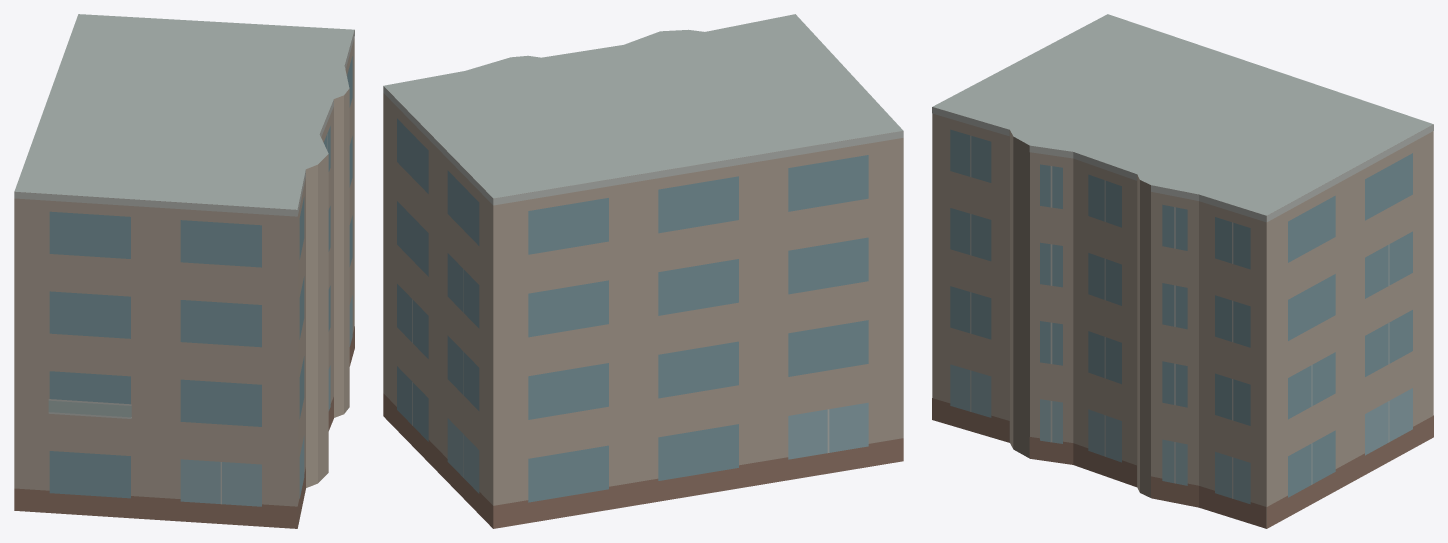
File: survey-upis-32682874.glb
3 views of the same model, side by side, from view 1: azimuth 30°, elevation 25°; view 2: azimuth 150°, elevation 25°; view 3: azimuth 270°, elevation 25° (orthographic). The views are drawn at different scales.
Parts seen in each view (by area): view 1: survey-upis-32682874.tmp; view 2: survey-upis-32682874.tmp; view 3: survey-upis-32682874.tmp.
Part boxes in pixels (bbox=[...]): survey-upis-32682874.tmp: bbox=[14, 14, 354, 528]; survey-upis-32682874.tmp: bbox=[383, 14, 903, 528]; survey-upis-32682874.tmp: bbox=[932, 14, 1433, 528].
Bounding box in the file's own units: 15.91 × 11.5 × 16.7.
